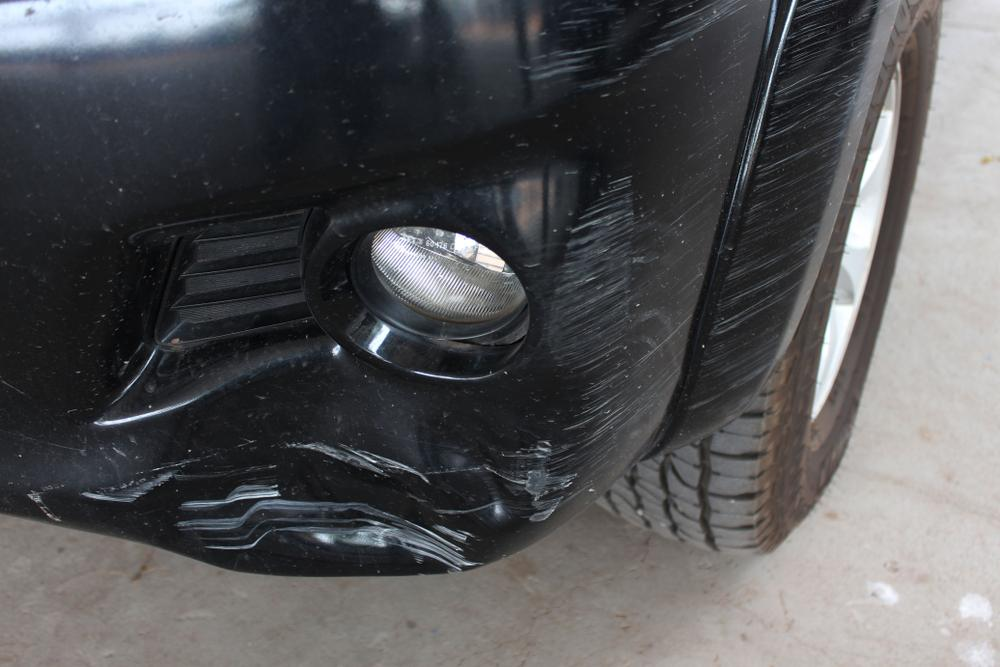dent: (173, 355, 501, 577)
scratch: (510, 0, 890, 521), (75, 466, 174, 511)
